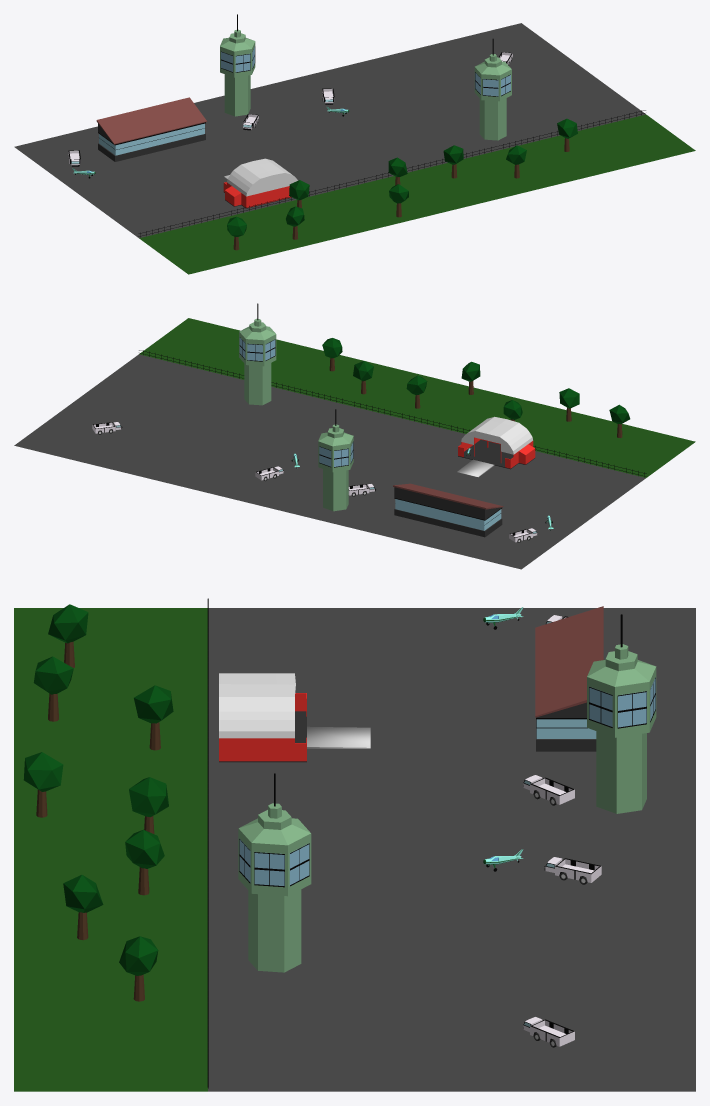
File: Airport1,2.fbx
3 views of the same model, one above another, from view 1: azimuth 30°, elevation 25°; view 2: azimuth 150°, elevation 25°; view 3: azimuth 270°, elevation 25° (orthographic). The views are drawn at different scales.
Parts seen in each view (by area): view 1: Cylinder.011; view 2: Cylinder.011; view 3: Cylinder.011.
Boxes of the visible parts, x1,y1,x2,y2 form: Cylinder.011: (14,14,695,274); Cylinder.011: (14,303,695,569); Cylinder.011: (14,598,695,1091).
Size of the model in its own units: 11853 by 2236 by 7048.
